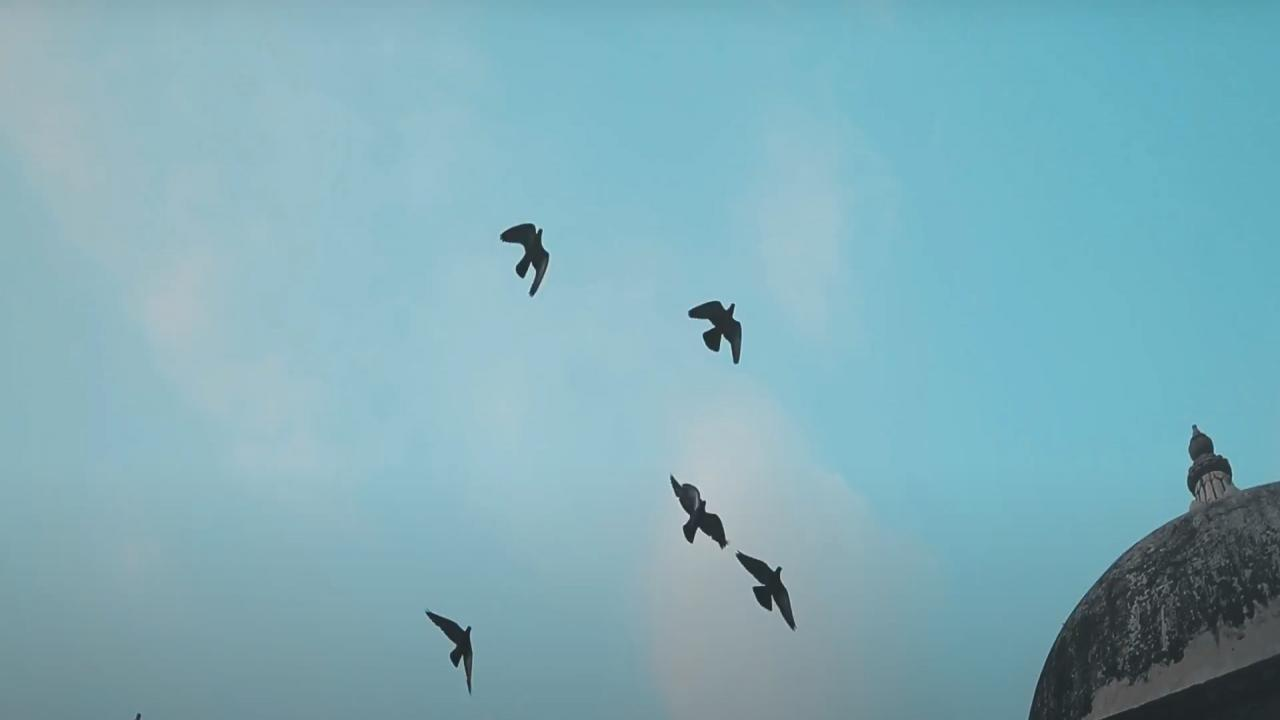Bird: (676, 284, 763, 378), (419, 596, 496, 702), (493, 206, 565, 310), (656, 471, 741, 557), (732, 546, 807, 636)
